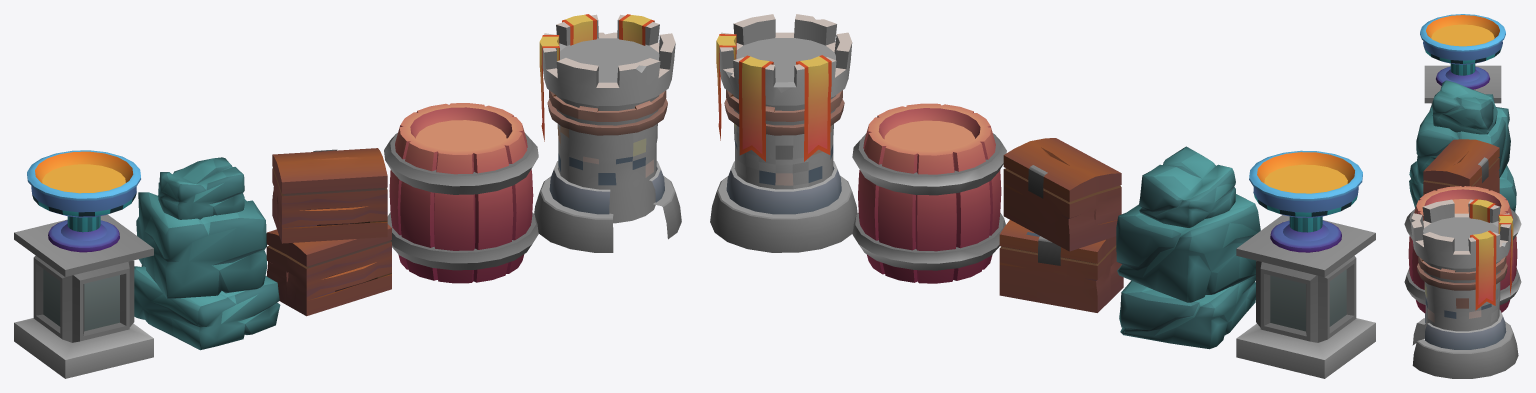
The model's file is End_t1_a2.fbx.
3 renders of one model, left to right at view 1: azimuth 30°, elevation 25°; view 2: azimuth 150°, elevation 25°; view 3: azimuth 270°, elevation 25°, orthographic. The views are drawn at different scales.
Visible parts, largest first — view 1: End_t1_a2_v3, End_t1_a2_v1, End_t1_a2_v2, End_t1_a2_v5, End_t1_a2_v4; view 2: End_t1_a2_v3, End_t1_a2_v1, End_t1_a2_v2, End_t1_a2_v5, End_t1_a2_v4; view 3: End_t1_a2_v3, End_t1_a2_v5, End_t1_a2_v2, End_t1_a2_v1, End_t1_a2_v4.
Part boxes in pixels (bbox=[...]): End_t1_a2_v3: bbox=[534, 14, 681, 252]; End_t1_a2_v1: bbox=[384, 103, 538, 283]; End_t1_a2_v2: bbox=[14, 150, 153, 378]; End_t1_a2_v5: bbox=[134, 157, 280, 350]; End_t1_a2_v4: bbox=[266, 148, 391, 316]; End_t1_a2_v3: bbox=[710, 14, 857, 252]; End_t1_a2_v1: bbox=[852, 103, 1006, 283]; End_t1_a2_v2: bbox=[1236, 150, 1375, 378]; End_t1_a2_v5: bbox=[1116, 146, 1260, 349]; End_t1_a2_v4: bbox=[999, 138, 1123, 312]; End_t1_a2_v3: bbox=[1411, 199, 1518, 378]; End_t1_a2_v5: bbox=[1409, 80, 1516, 212]; End_t1_a2_v2: bbox=[1420, 14, 1505, 104]; End_t1_a2_v1: bbox=[1404, 186, 1521, 313]; End_t1_a2_v4: bbox=[1423, 139, 1499, 195].
Bounding box in the file's own units: 18.3 × 5.03 × 3.88.
